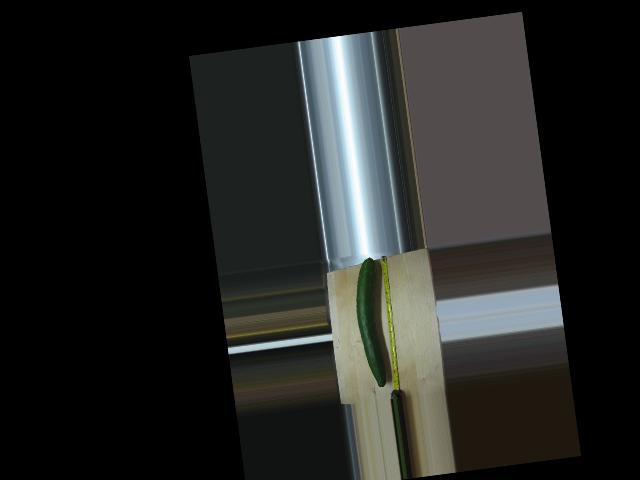cucumber: (350, 257, 392, 389)
